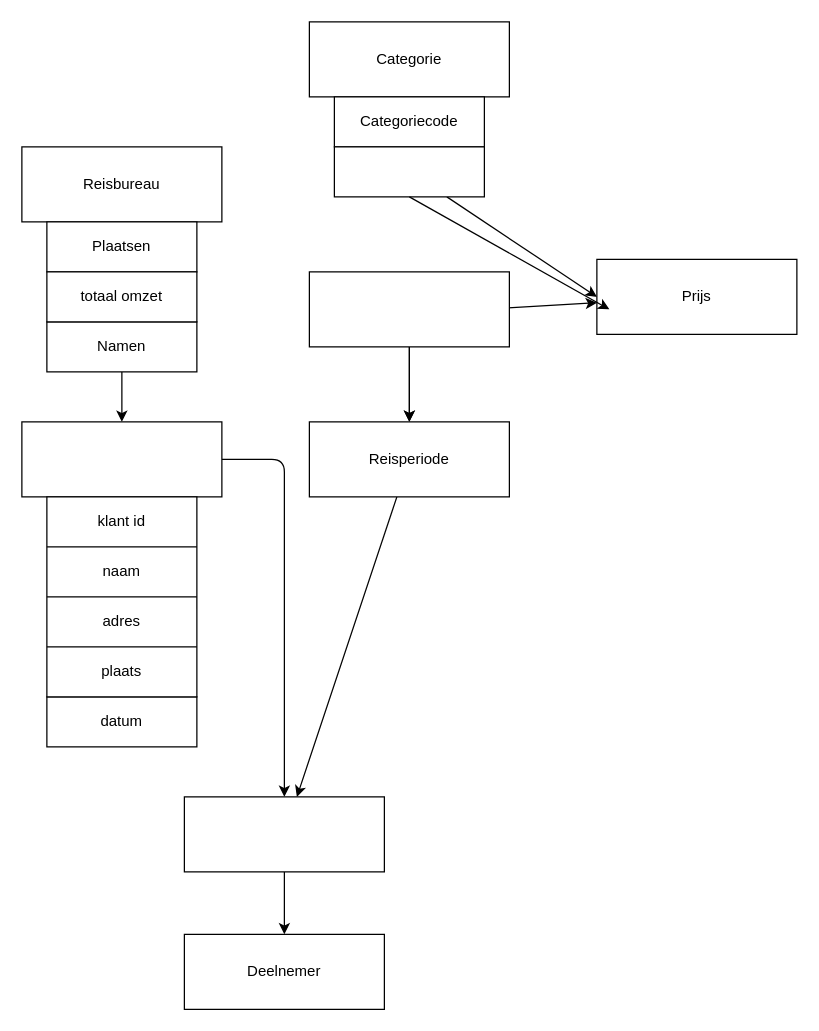
This 819x1031 diagram has some shape labels left out. Here are the shapes that lost their labels. From the top down, the box of each, then its label:
(333, 146, 484, 197): Categorieomschrijving
(308, 271, 509, 347): Reis
(21, 421, 222, 497): Klant
(183, 796, 384, 872): Reisresevering
